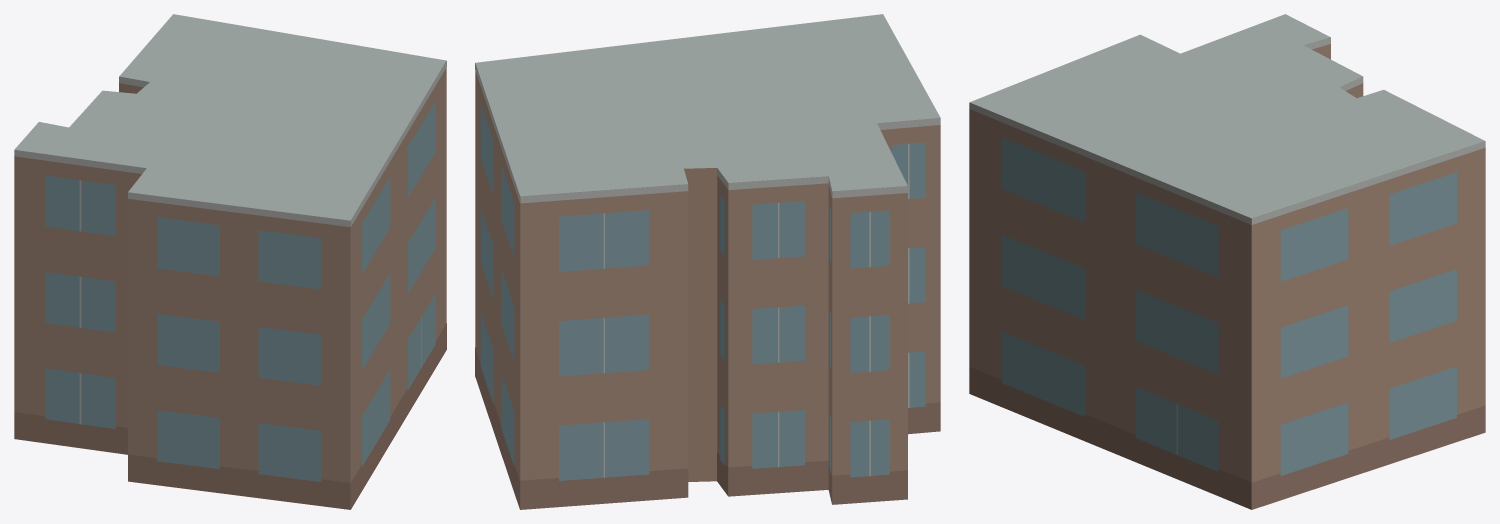
Rendered from survey-upis-32584826.glb.
The picture shows the model from 3 angles, left to right: view 1: azimuth 30°, elevation 25°; view 2: azimuth 150°, elevation 25°; view 3: azimuth 270°, elevation 25°; orthographic projection. The views are drawn at different scales.
Visible parts, largest first — view 1: survey-upis-32584826.tmp; view 2: survey-upis-32584826.tmp; view 3: survey-upis-32584826.tmp.
Boxes of the visible parts, x1,y1,x2,y2 form: survey-upis-32584826.tmp: [14, 14, 446, 509]; survey-upis-32584826.tmp: [475, 14, 940, 509]; survey-upis-32584826.tmp: [969, 14, 1485, 509].
Bounding box in the file's own units: 16.33 × 10.85 × 17.42.
